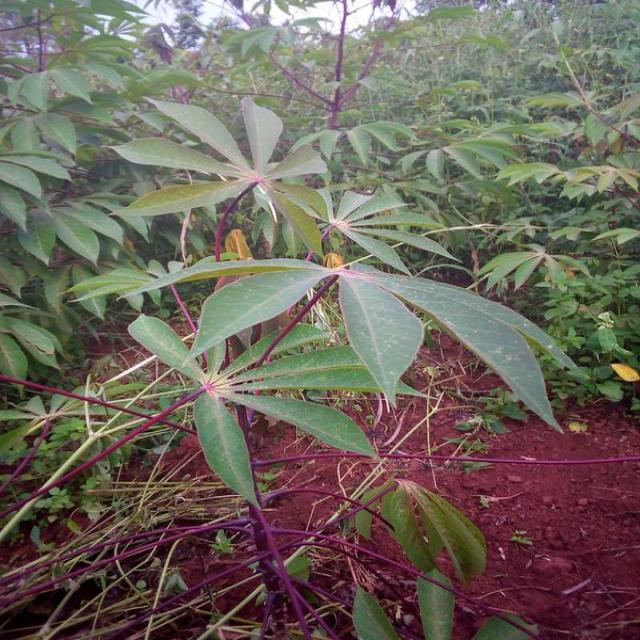cassava leaf: (185, 264, 331, 360), (337, 268, 424, 411), (192, 386, 260, 510)
